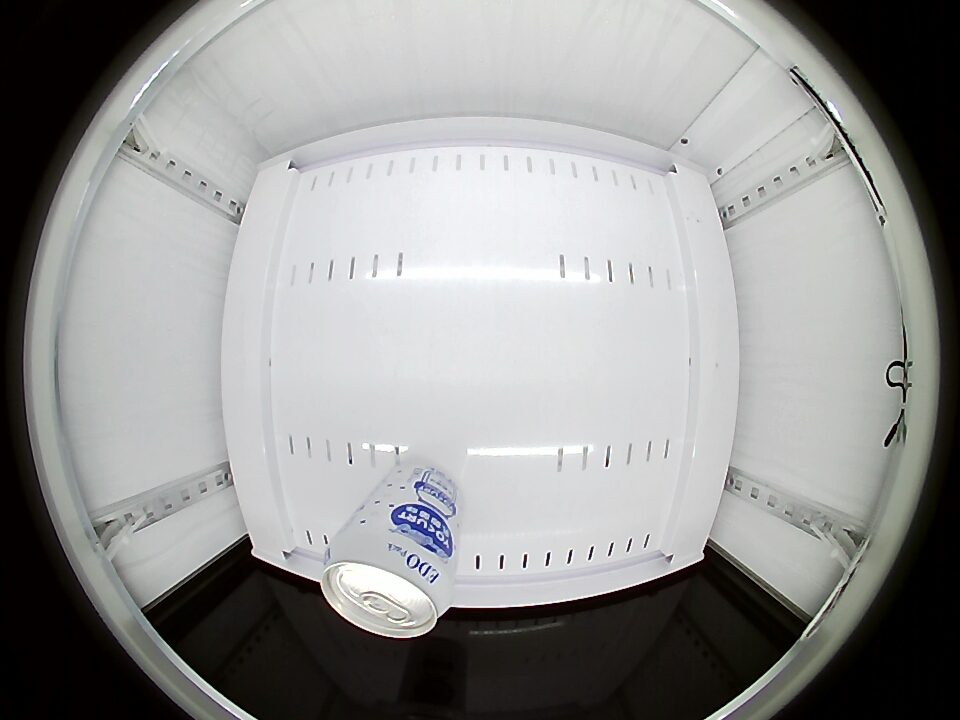rusuanjunqishui: (321, 525, 454, 639)
